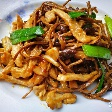chashugu: (2, 1, 112, 104)
